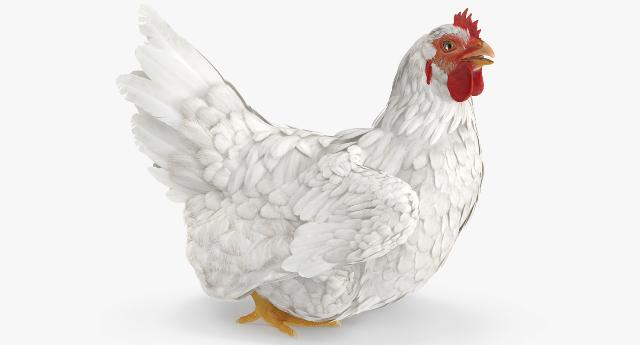Chicken: (117, 0, 495, 339)
